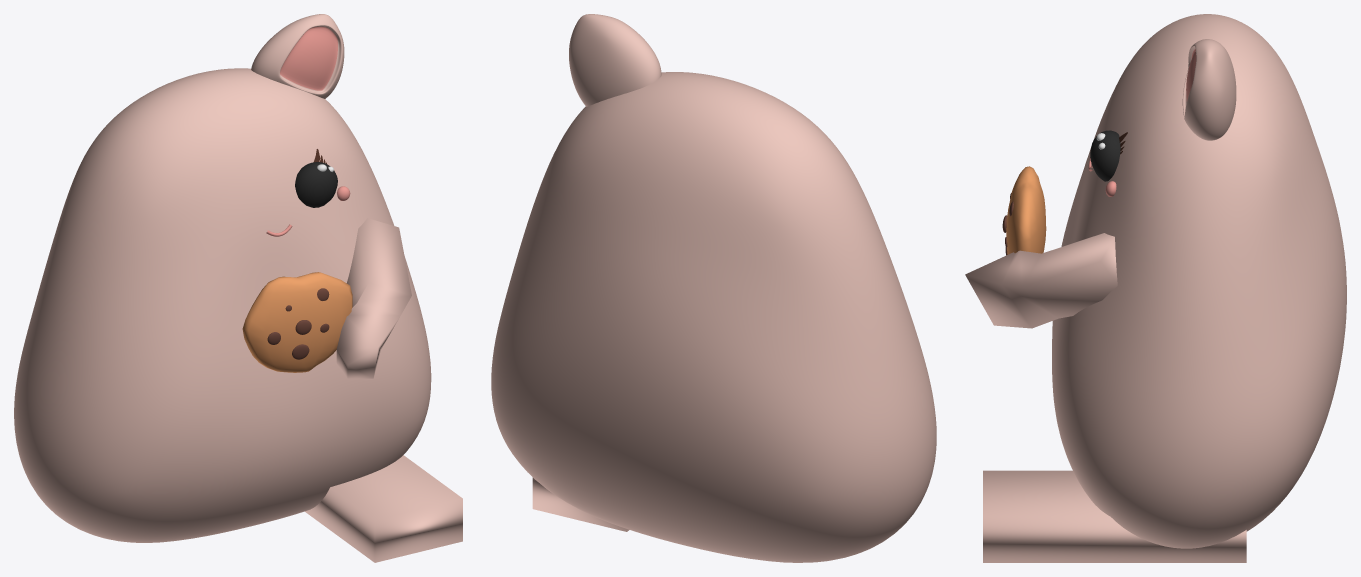
The model's file is cookiie.gltf.
The picture shows the model from 3 angles, left to right: view 1: azimuth 30°, elevation 25°; view 2: azimuth 150°, elevation 25°; view 3: azimuth 270°, elevation 25°; orthographic projection. The views are drawn at different scales.
Parts seen in each view (by area): view 1: Cube, Cube.003, Cube.002, Sphere.003, Cube.001, Sphere; view 2: Cube, Cube.001, Cube.003; view 3: Cube, Cube.003, Cube.002, Cube.001, Sphere.003, Sphere.
Boxes of the visible parts, left/top/right/bottom form: Cube: left=14, top=68, right=431, bottom=542; Cube.003: left=305, top=455, right=462, bottom=562; Cube.002: left=336, top=218, right=411, bottom=378; Sphere.003: left=242, top=272, right=352, bottom=372; Cube.001: left=251, top=14, right=344, bottom=98; Sphere: left=295, top=162, right=337, bottom=207; Cube: left=491, top=72, right=936, bottom=562; Cube.001: left=569, top=14, right=661, bottom=106; Cube.003: left=532, top=477, right=629, bottom=531; Cube: left=1052, top=14, right=1346, bottom=548; Cube.003: left=983, top=470, right=1246, bottom=562; Cube.002: left=965, top=233, right=1117, bottom=328; Cube.001: left=1182, top=39, right=1236, bottom=140; Sphere.003: left=1006, top=166, right=1046, bottom=254; Sphere: left=1090, top=130, right=1120, bottom=181.
Bounding box in the file's own units: 2.05 × 2.4 × 1.64.
